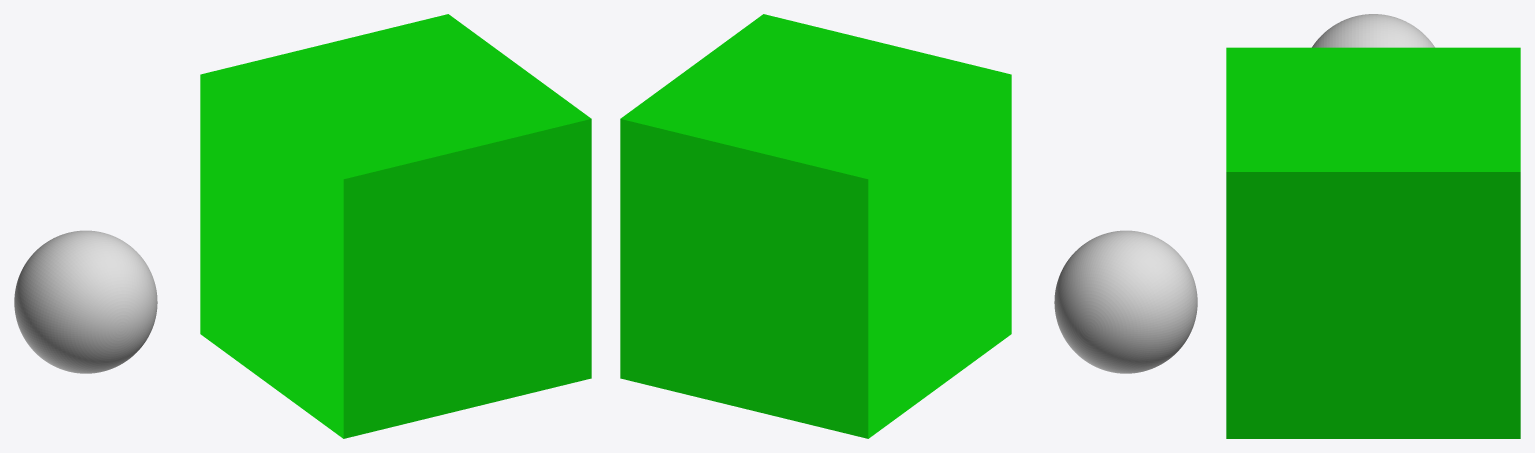
The model's file is attributes_ex3.glb.
The picture shows the model from 3 angles, left to right: view 1: azimuth 30°, elevation 25°; view 2: azimuth 150°, elevation 25°; view 3: azimuth 270°, elevation 25°; orthographic projection. The views are drawn at different scales.
Visible parts, largest first — view 1: Cube, Sphere; view 2: Cube, Sphere; view 3: Cube, Sphere.
Boxes of the visible parts, bbox=[...] form: Cube: bbox=[200, 14, 591, 438]; Sphere: bbox=[14, 230, 157, 373]; Cube: bbox=[620, 14, 1011, 438]; Sphere: bbox=[1054, 230, 1197, 373]; Cube: bbox=[1226, 47, 1520, 438]; Sphere: bbox=[1312, 14, 1434, 47].
Bounding box in the file's own units: 8 × 4 × 4.
